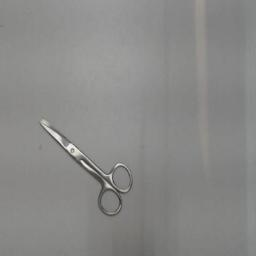Dressing Scissors: (34, 111, 138, 223)
